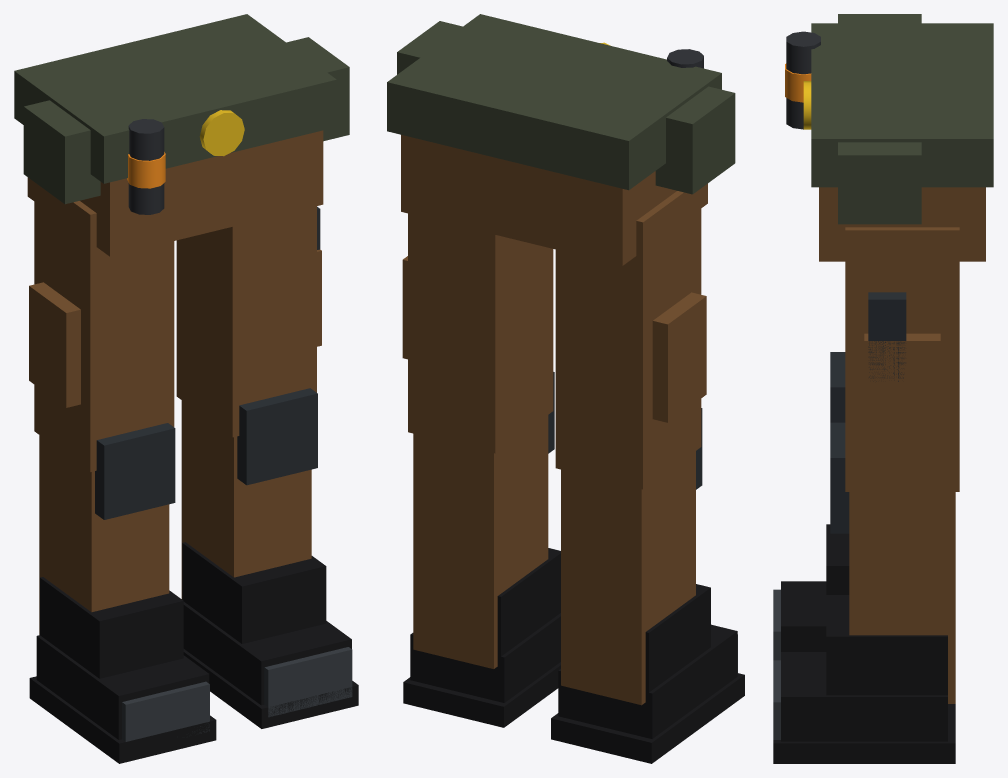
Rendered from mercenary_legs.obj.
3 renders of one model, left to right at view 1: azimuth 30°, elevation 25°; view 2: azimuth 150°, elevation 25°; view 3: azimuth 270°, elevation 25°, orthographic. The views are drawn at different scales.
Size of the model in its own units: 0.44 by 0.91 by 0.29.
